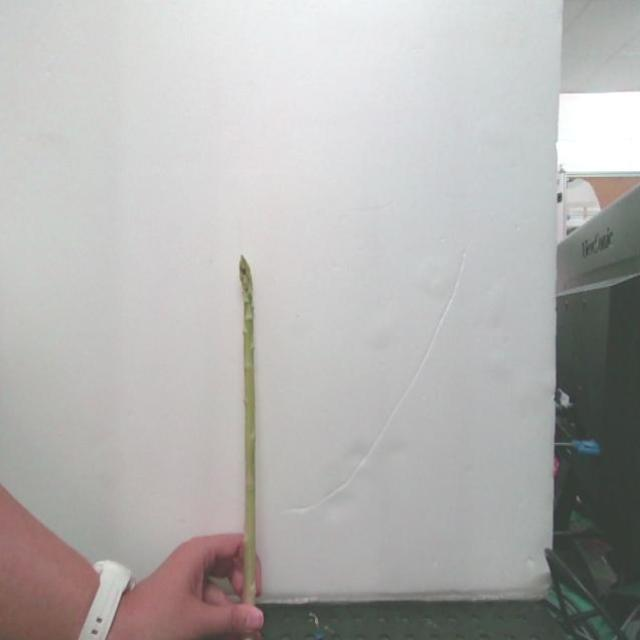aspargus: (239, 257, 261, 608)
